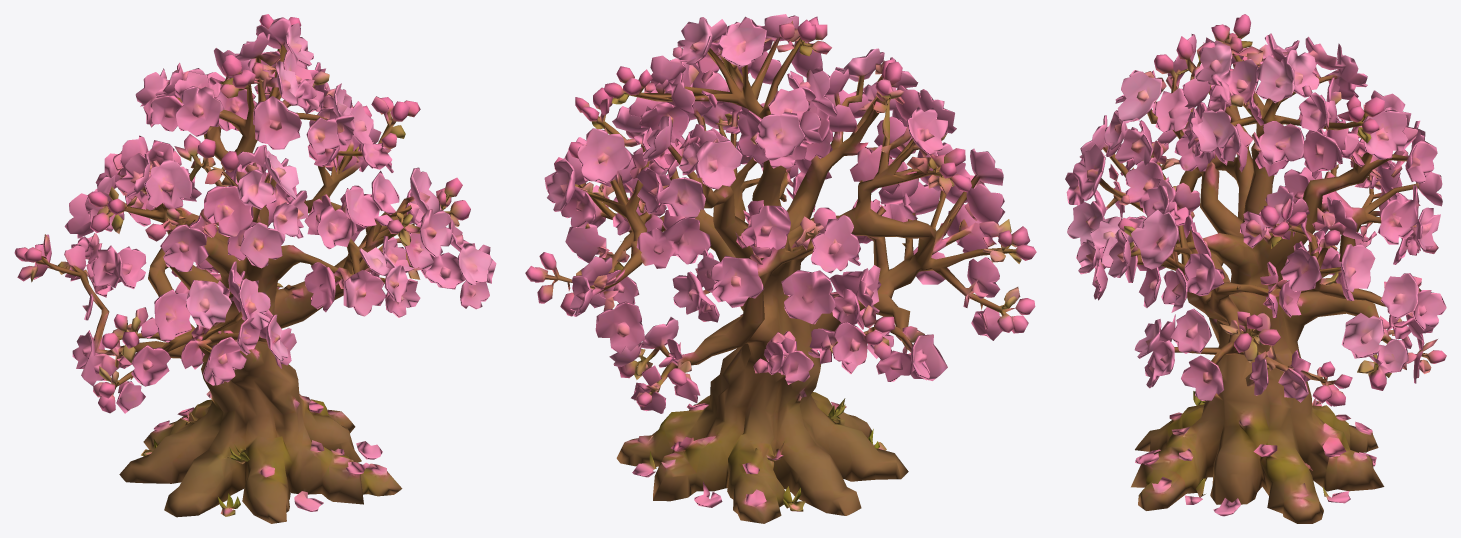
The model's file is tree_cherry.glb.
3 renders of one model, left to right at view 1: azimuth 30°, elevation 25°; view 2: azimuth 150°, elevation 25°; view 3: azimuth 270°, elevation 25°, orthographic. The views are drawn at different scales.
Visible parts, largest first — view 1: tripo_node_4f17ce03-cebd-449e-ba71-e90feed2f5a8; view 2: tripo_node_4f17ce03-cebd-449e-ba71-e90feed2f5a8; view 3: tripo_node_4f17ce03-cebd-449e-ba71-e90feed2f5a8.
Part boxes in pixels (x1,y1,x2,y2): tripo_node_4f17ce03-cebd-449e-ba71-e90feed2f5a8: (14,14,496,523); tripo_node_4f17ce03-cebd-449e-ba71-e90feed2f5a8: (525,14,1036,523); tripo_node_4f17ce03-cebd-449e-ba71-e90feed2f5a8: (1065,14,1446,523).
Bounding box in the file's own units: 0.9937 × 1 × 0.7815.
1 material, 1 textured.
